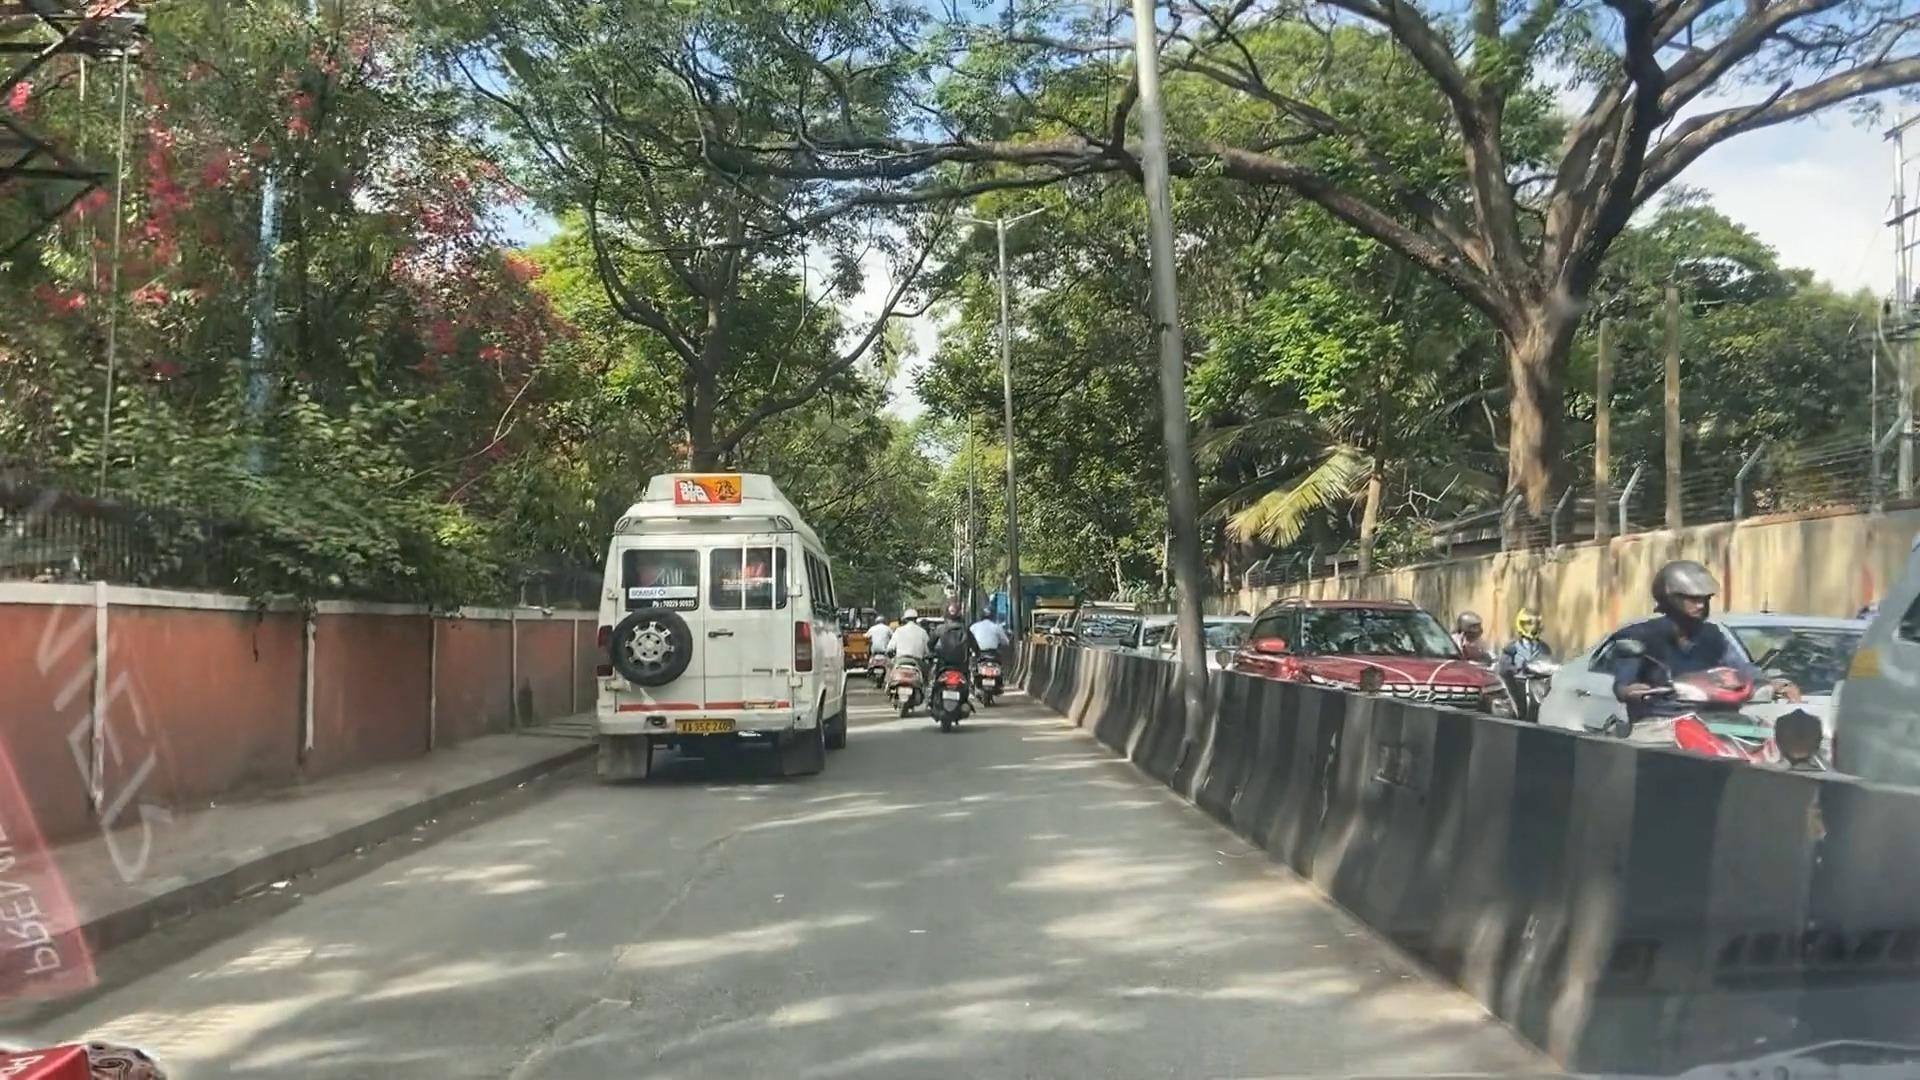HMV: (600, 460, 816, 764)
LMV: (916, 596, 981, 729)
